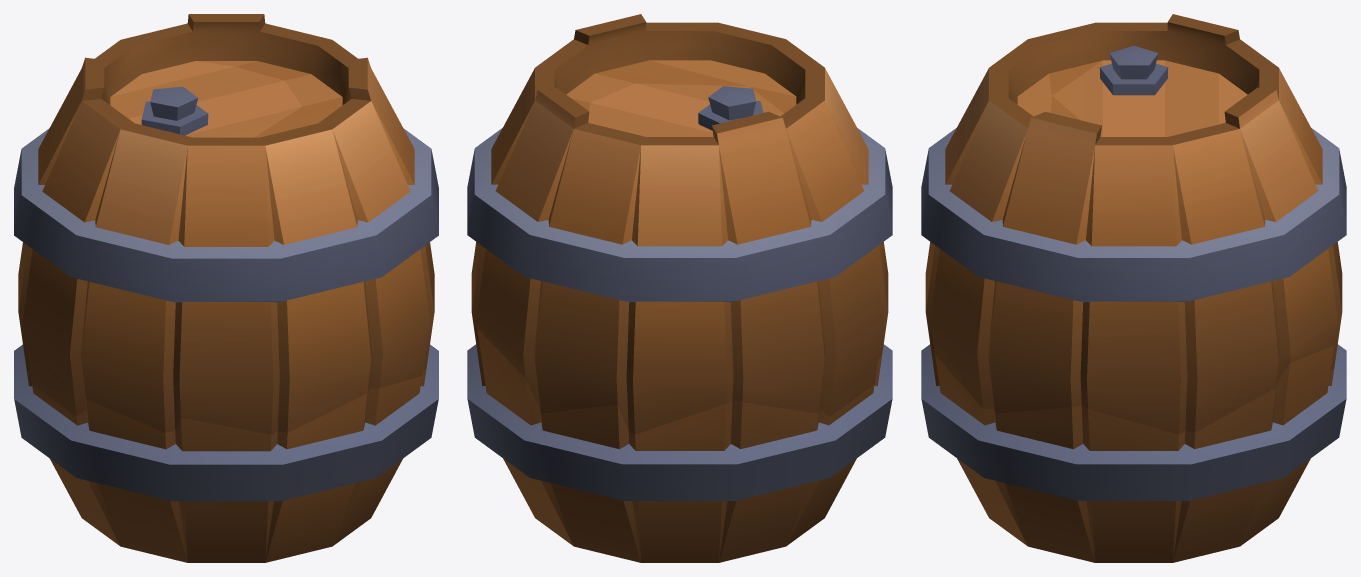
The model's file is camp-barrel.obj.
3 renders of one model, left to right at view 1: azimuth 30°, elevation 25°; view 2: azimuth 150°, elevation 25°; view 3: azimuth 270°, elevation 25°, orthographic.
Visible parts, largest first — view 1: camp-barrel; view 2: camp-barrel; view 3: camp-barrel.
Boxes of the visible parts, <box> form: camp-barrel: <box>14,14,438,562</box>; camp-barrel: <box>467,14,892,562</box>; camp-barrel: <box>921,14,1346,562</box>.
Size of the model in its own units: 3.87 by 4.3 by 3.87.
1 material, 1 textured.
